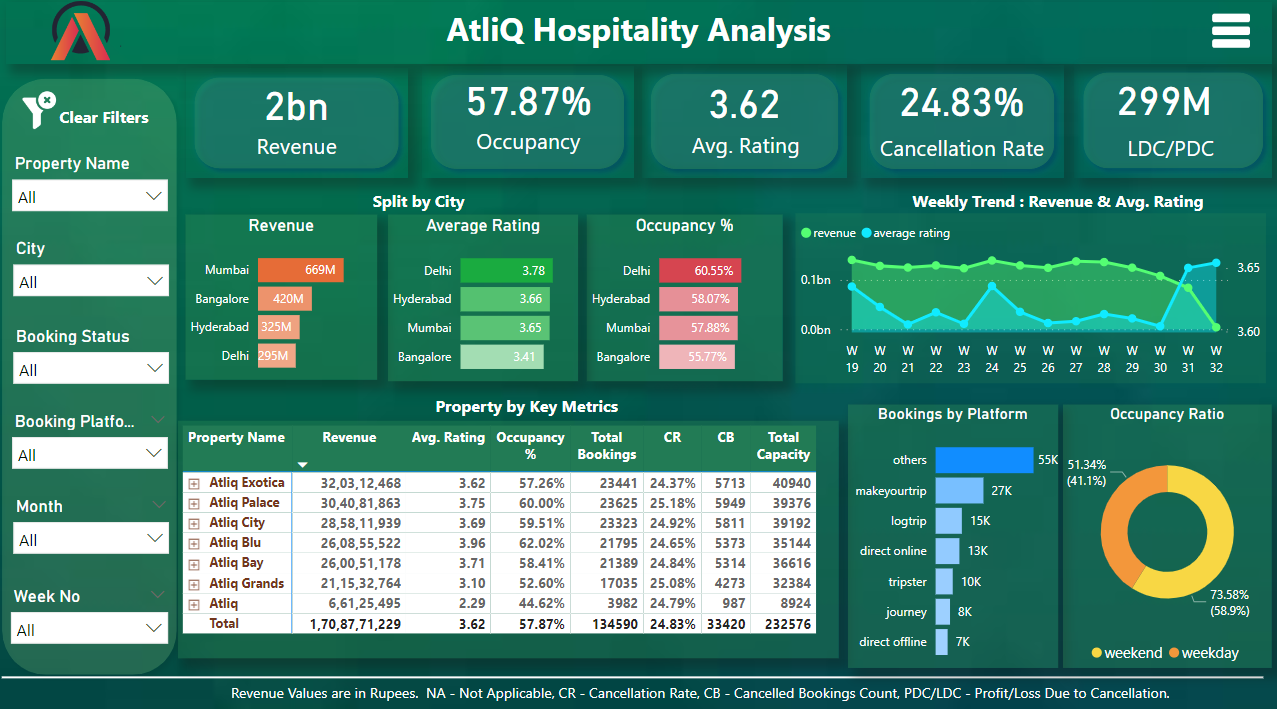

What the dashboard file says about the page in this screenshot:
{"tool":"powerbi","page":{"name":"Overall Analysis","canvas":[1280,720],"ordinal":0},"visuals":[{"type":"image","box":[0,0,1280,720],"z":0},{"type":"shape","box":[12.1,12.1,1253.1,63.9],"z":1000},{"type":"textbox","box":[12.1,9.4,1257.4,61.9],"z":2000},{"type":"image","title":"atliq","box":[36.2,0,96.5,77.2],"z":4000},{"type":"shape","box":[0,77.1,191.4,610],"z":5000},{"type":"slicer","fields":{"Values":["dim_hotels.city"]},"box":[9.6,240,174.9,67.5],"z":6000},{"type":"slicer","fields":{"Values":["fact_bookings.booking_status"]},"box":[9.6,326.8,174.9,67.5],"z":7000},{"type":"slicer","fields":{"Values":["fact_bookings.booking_platform"]},"box":[8.4,411.3,174.9,67.5],"z":8000},{"type":"slicer","fields":{"Values":["dim_date.mmm yy.Variation.Date Hierarchy.Month"]},"box":[9.6,495.7,174.9,67.5],"z":9000},{"type":"slicer","fields":{"Values":["dim_hotels.property_name"]},"box":[8.4,155.6,174.9,67.5],"z":10000},{"type":"slicer","fields":{"Values":["dim_date.week no"]},"box":[7.2,584.9,176.1,67.5],"z":11000},{"type":"shape","box":[8.4,671.8,1253.1,18.1],"z":12000},{"type":"textbox","box":[190.6,681.4,1026.3,28.9],"z":13000},{"type":"shape","box":[190.6,76,220.7,108.5],"z":14000},{"type":"card","fields":{"Values":["key_measures.revenue"]},"box":[214.7,85.6,173.7,47],"z":15000},{"type":"textbox","box":[214.7,132.7,173.7,38.6],"z":16000},{"type":"shape","box":[425.7,72.9,210,111.4],"z":17000},{"type":"shape","box":[644.3,71.4,204.3,112.9],"z":18000},{"type":"shape","box":[861.4,71.4,201.4,112.9],"z":19000},{"type":"shape","box":[1073.4,71.2,196.6,113.4],"z":20000},{"type":"card","fields":{"Values":["key_measures.occupancy %"]},"box":[436.6,77.2,189.3,54.3],"z":21000},{"type":"textbox","box":[436.6,127.8,189.3,43.4],"z":22000},{"type":"card","fields":{"Values":["key_measures.average rating"]},"box":[652.5,83.2,186.9,48.2],"z":23000},{"type":"textbox","box":[652.5,131.5,189.3,42.2],"z":24000},{"type":"card","fields":{"Values":["key_measures.CR"]},"box":[846.6,88,231.6,55.5],"z":25000},{"type":"textbox","box":[867.1,135.1,189.3,42.2],"z":26000},{"type":"card","fields":{"Values":["key_measures.Loss/Profit due to cancellation"]},"box":[1078.1,72.9,169.1,61.9],"z":27000},{"type":"textbox","box":[1073.4,135.1,191.8,38.6],"z":28000},{"type":"clusteredBarChart","title":"Revenue ","fields":{"Category":["dim_hotels.city"],"Y":["key_measures.revenue"]},"box":[191.4,221.4,190,164.3],"z":30000},{"type":"clusteredBarChart","title":"Occupancy % ","fields":{"Category":["dim_hotels.city"],"Y":["key_measures.occupancy %"]},"box":[590,221.4,194.3,165.7],"z":31000},{"type":"clusteredBarChart","title":"Average Rating","fields":{"Category":["dim_hotels.city"],"Y":["key_measures.average rating"]},"box":[392.9,221.4,188.6,165.7],"z":32000},{"type":"textbox","box":[190.6,190.6,594.6,32.6],"z":33000},{"type":"areaChart","fields":{"Category":["dim_date.week no"],"Y":["key_measures.revenue"],"Y2":["key_measures.average rating"]},"box":[797.1,220,467.1,168.6],"z":34000},{"type":"textbox","box":[900.9,190.6,312.4,31.4],"z":35000},{"type":"pivotTable","fields":{"Rows":["dim_hotels.property_name","dim_hotels.city"],"Values":["key_measures.revenue","key_measures.average rating","key_measures.occupancy %","key_measures.total bookings","key_measures.CR","key_measures.total cancelled bookings","key_measures.total capacity"]},"box":[184.3,425.7,655.7,235.7],"z":36000},{"type":"textbox","box":[373.9,394.4,312.4,31.4],"z":37000},{"type":"clusteredBarChart","title":"Bookings by Platform","fields":{"Category":["fact_bookings.booking_platform"],"Y":["key_measures.total bookings"]},"box":[848.6,410,208.6,261.4],"z":38000},{"type":"donutChart","title":"Occupancy Ratio","fields":{"Category":["dim_date.day_type"],"Y":["key_measures.occupancy %"]},"box":[1062.9,410,207.1,261.4],"z":39000},{"type":"image","box":[22.9,88.6,47.1,58.6],"z":40000},{"type":"textbox","box":[61.4,108.6,130,44.3],"z":41000},{"type":"image","title":"three dot menu","box":[1198.2,14.8,63.2,47.1],"z":45500}]}

Visuals, with their boxes in screenshot pixels (x1, y1, x2, y2), scaled from the page's 1280x720 canvas onto the 1277x709 screenshot:
image: <bbox>0, 0, 1276, 708</bbox>
shape: <bbox>12, 12, 1262, 75</bbox>
textbox: <bbox>12, 9, 1267, 70</bbox>
"atliq" image: <bbox>36, 0, 132, 76</bbox>
shape: <bbox>0, 76, 191, 677</bbox>
slicer - dim_hotels.city: <bbox>10, 236, 184, 303</bbox>
slicer - fact_bookings.booking_status: <bbox>10, 322, 184, 388</bbox>
slicer - fact_bookings.booking_platform: <bbox>8, 405, 183, 471</bbox>
slicer - dim_date.mmm yy.Variation.Date Hierarchy.Month: <bbox>10, 488, 184, 555</bbox>
slicer - dim_hotels.property_name: <bbox>8, 153, 183, 220</bbox>
slicer - dim_date.week no: <bbox>7, 576, 183, 642</bbox>
shape: <bbox>8, 662, 1259, 679</bbox>
textbox: <bbox>190, 671, 1214, 699</bbox>
shape: <bbox>190, 75, 410, 182</bbox>
card - key_measures.revenue: <bbox>214, 84, 387, 131</bbox>
textbox: <bbox>214, 131, 387, 169</bbox>
shape: <bbox>425, 72, 634, 181</bbox>
shape: <bbox>643, 70, 847, 181</bbox>
shape: <bbox>859, 70, 1060, 181</bbox>
shape: <bbox>1071, 70, 1267, 182</bbox>
card - key_measures.occupancy %: <bbox>436, 76, 624, 129</bbox>
textbox: <bbox>436, 126, 624, 169</bbox>
card - key_measures.average rating: <bbox>651, 82, 837, 129</bbox>
textbox: <bbox>651, 129, 840, 171</bbox>
card - key_measures.CR: <bbox>845, 87, 1076, 141</bbox>
textbox: <bbox>865, 133, 1054, 175</bbox>
card - key_measures.Loss/Profit due to cancellation: <bbox>1076, 72, 1244, 133</bbox>
textbox: <bbox>1071, 133, 1262, 171</bbox>
"Revenue " clusteredBarChart: <bbox>191, 218, 381, 380</bbox>
"Occupancy % " clusteredBarChart: <bbox>589, 218, 782, 381</bbox>
"Average Rating" clusteredBarChart: <bbox>392, 218, 580, 381</bbox>
textbox: <bbox>190, 188, 783, 220</bbox>
areaChart - dim_date.week no x key_measures.revenue: <bbox>795, 217, 1261, 383</bbox>
textbox: <bbox>899, 188, 1210, 219</bbox>
pivotTable - dim_hotels.property_name x dim_hotels.city: <bbox>184, 419, 838, 651</bbox>
textbox: <bbox>373, 388, 685, 419</bbox>
"Bookings by Platform" clusteredBarChart: <bbox>847, 404, 1055, 661</bbox>
"Occupancy Ratio" donutChart: <bbox>1060, 404, 1267, 661</bbox>
image: <bbox>23, 87, 70, 145</bbox>
textbox: <bbox>61, 107, 191, 151</bbox>
"three dot menu" image: <bbox>1195, 15, 1258, 61</bbox>
